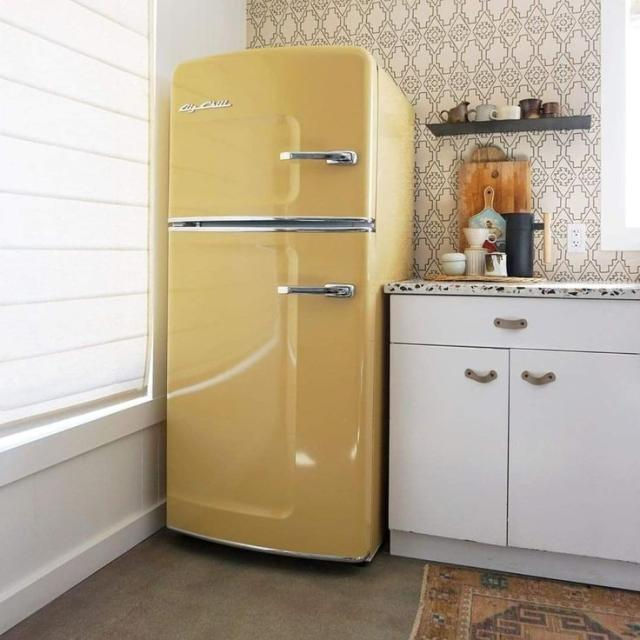obstacle: (164, 44, 416, 564), (386, 284, 639, 592)
